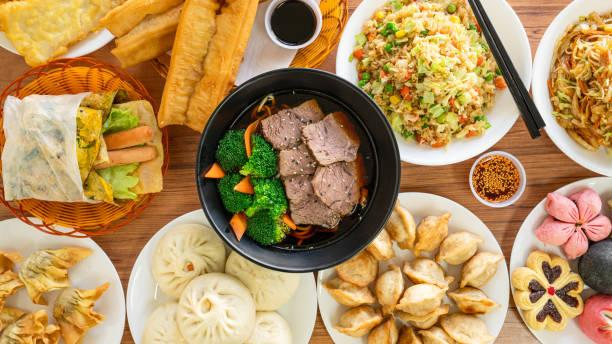Braised Crucian Carp: (194, 67, 396, 271), (335, 0, 525, 167), (0, 58, 164, 236), (321, 191, 506, 342), (132, 226, 301, 343)
